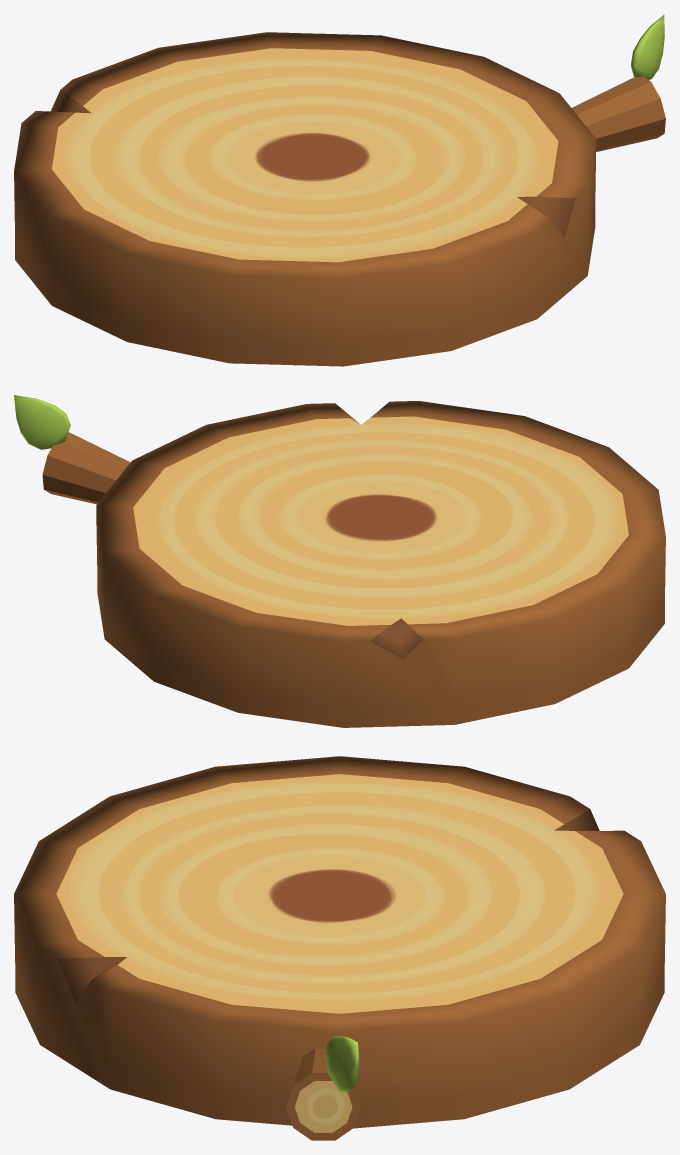
File: Board.fbx
The picture shows the model from 3 angles, top to bottom: view 1: azimuth 30°, elevation 25°; view 2: azimuth 150°, elevation 25°; view 3: azimuth 270°, elevation 25°; orthographic projection. The views are drawn at different scales.
Visible parts, largest first — view 1: Board; view 2: Board; view 3: Board.
Part boxes in pixels (x1,y1,x2,y2): Board: [14, 14, 665, 366]; Board: [14, 395, 665, 727]; Board: [14, 756, 665, 1140].
Size of the model in its own units: 130 by 26.89 by 107.
1 material, 1 textured.
